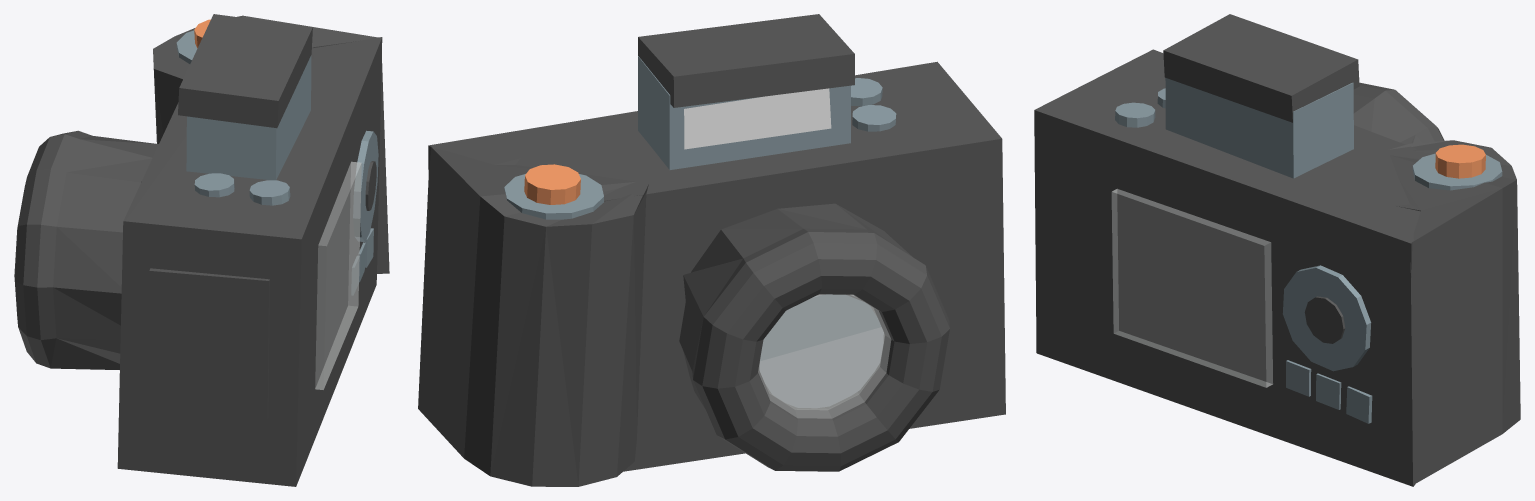
The model's file is MovileCamera.dae.
3 views of the same model, side by side, from view 1: azimuth 30°, elevation 25°; view 2: azimuth 150°, elevation 25°; view 3: azimuth 270°, elevation 25° (orthographic). The views are drawn at different scales.
Parts seen in each view (by area): view 1: mesh187960395, mesh421370910, mesh563972974, mesh1841487932, mesh1442659403, mesh1660282777, mesh1050759265, mesh326494754, mesh1049064424, mesh1103111000, mesh417813621, mesh1230812601; view 2: mesh187960395, mesh1050759265, mesh421370910, mesh1841487932, mesh1660282777, mesh1770708456, mesh2084903847, mesh417813621, mesh1481700145, mesh1103111000, mesh1049064424; view 3: mesh187960395, mesh1050759265, mesh1442659403, mesh1841487932, mesh1660282777, mesh326494754, mesh421370910, mesh417813621, mesh1481700145, mesh1230812601, mesh1049064424, mesh869650960 (+2 smaller).
Boxes of the visible parts, bbox=[...] form: mesh187960395: bbox=[117, 37, 382, 486]; mesh421370910: bbox=[14, 130, 158, 369]; mesh563972974: bbox=[147, 268, 269, 419]; mesh1841487932: bbox=[178, 14, 312, 128]; mesh1442659403: bbox=[315, 161, 361, 389]; mesh1660282777: bbox=[186, 55, 311, 180]; mesh1050759265: bbox=[153, 15, 389, 273]; mesh326494754: bbox=[353, 130, 378, 241]; mesh1049064424: bbox=[249, 180, 290, 205]; mesh1103111000: bbox=[194, 173, 234, 197]; mesh417813621: bbox=[176, 30, 197, 63]; mesh1230812601: bbox=[365, 161, 376, 210]; mesh187960395: bbox=[428, 61, 1005, 471]; mesh1050759265: bbox=[418, 147, 648, 486]; mesh421370910: bbox=[679, 203, 949, 471]; mesh1841487932: bbox=[638, 14, 854, 107]; mesh1660282777: bbox=[638, 56, 850, 169]; mesh1770708456: bbox=[758, 294, 890, 418]; mesh2084903847: bbox=[759, 294, 883, 407]; mesh417813621: bbox=[504, 174, 603, 219]; mesh1481700145: bbox=[524, 164, 580, 204]; mesh1103111000: bbox=[852, 105, 896, 131]; mesh1049064424: bbox=[851, 78, 882, 106]; mesh187960395: bbox=[1034, 49, 1431, 486]; mesh1050759265: bbox=[1390, 140, 1520, 484]; mesh1442659403: bbox=[1111, 189, 1272, 387]; mesh1841487932: bbox=[1163, 14, 1359, 122]; mesh1660282777: bbox=[1165, 78, 1353, 178]; mesh326494754: bbox=[1282, 265, 1371, 371]; mesh421370910: bbox=[1353, 82, 1444, 144]; mesh417813621: bbox=[1412, 153, 1502, 190]; mesh1481700145: bbox=[1435, 144, 1485, 178]; mesh1230812601: bbox=[1304, 296, 1345, 343]; mesh1049064424: bbox=[1115, 102, 1155, 127]; mesh869650960: bbox=[1346, 386, 1372, 423].
Size of the model in its own units: 0.4823 by 0.4828 by 0.3796.
